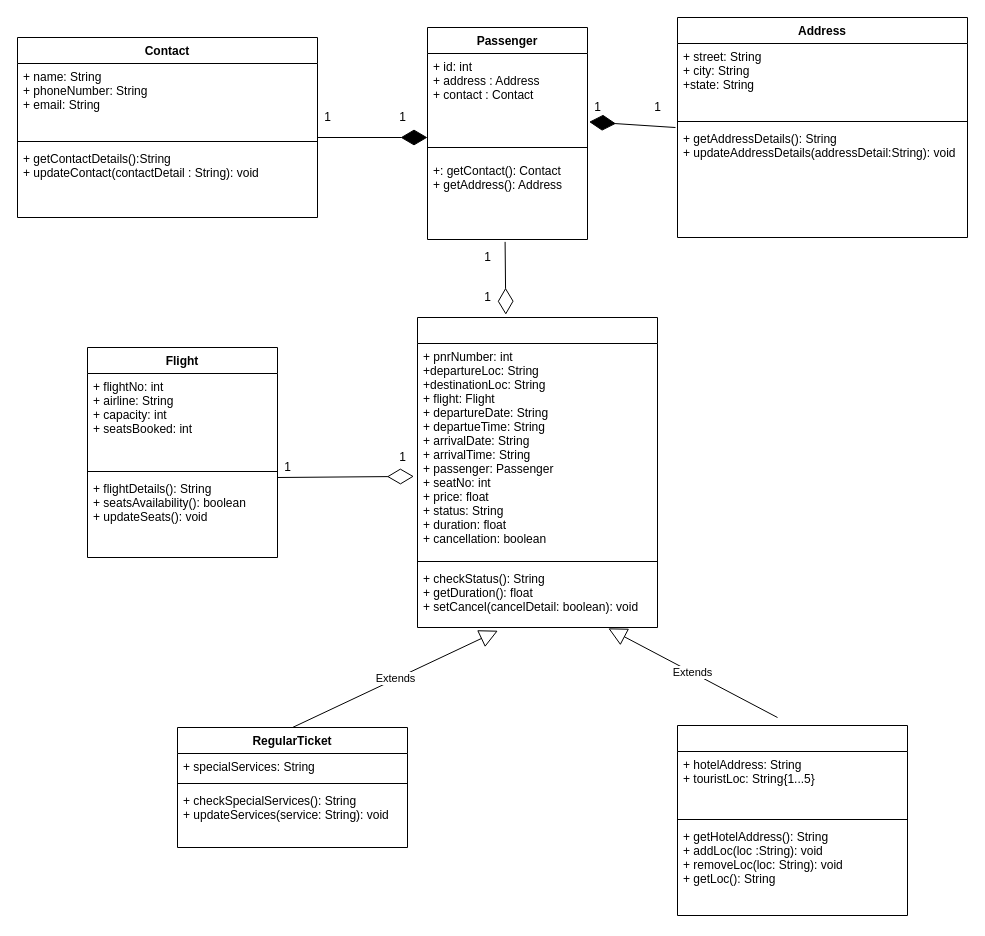
Some shapes in this 985 by 936 pixel diagram are drawn without their labels. The shapes that lost their labels are listed below. From the top down, each one's box as (x1, y1, x2, y2) in pixels, then its label:
(416, 316, 658, 628): Ticket
(676, 724, 908, 916): TouristTicket
